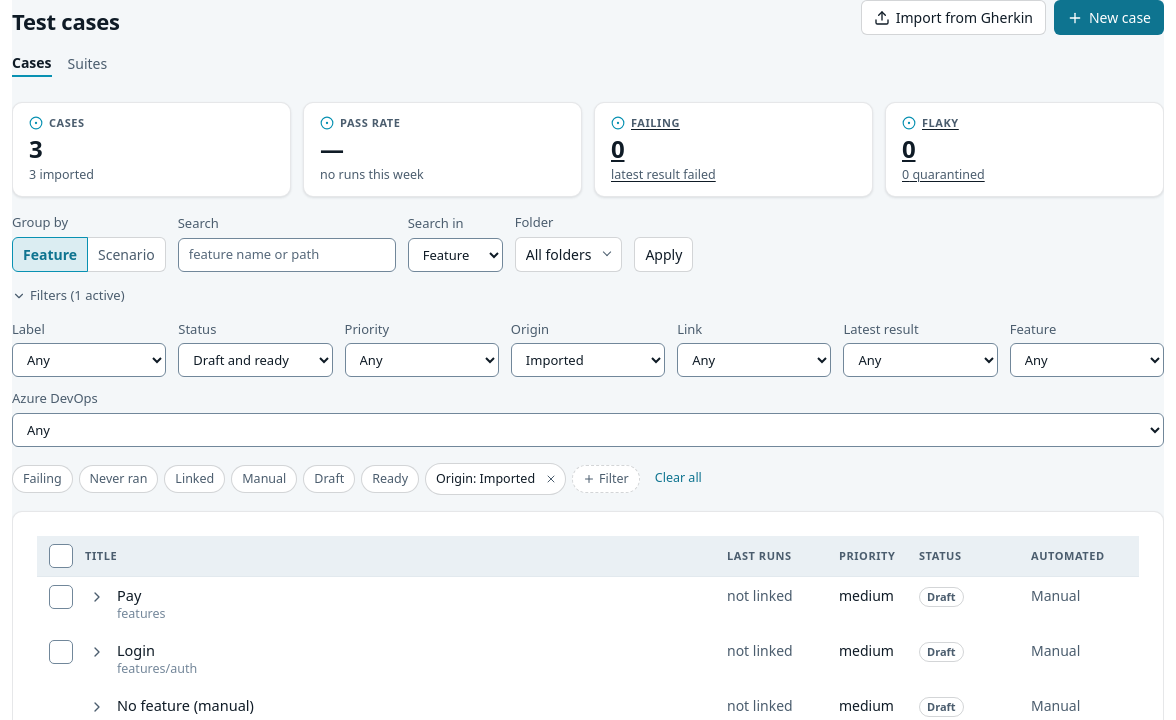
Test: a filter the feature list cannot apply groups the matching cases in the page instead
This screenshot has width=1176, height=720.
Expected: the link "Login" is shown, [117, 640, 155, 660]
Expected: the link "Pay" is shown, [117, 585, 141, 605]
What coordinates should you click on to do the following:
click the button named "Show scenarios of Pay"
I would click on:
 (97, 597)
Its box is [85, 585, 109, 609].
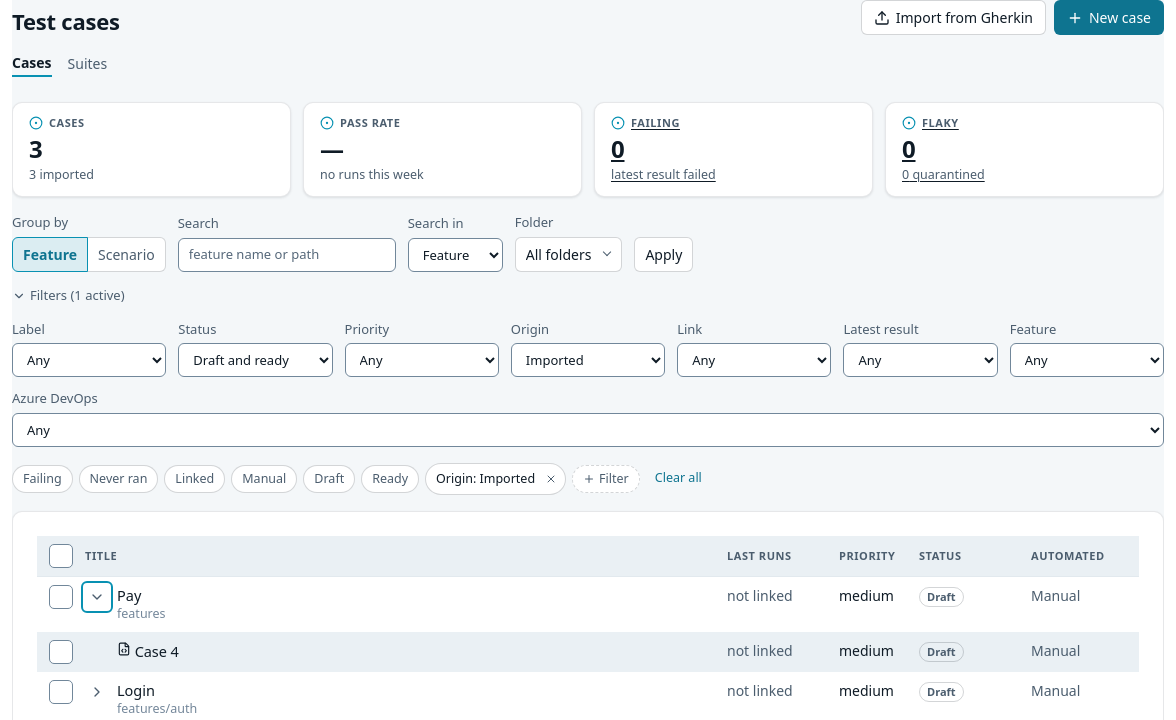
Expected: the link "Case 4" is shown, [135, 640, 179, 661]
